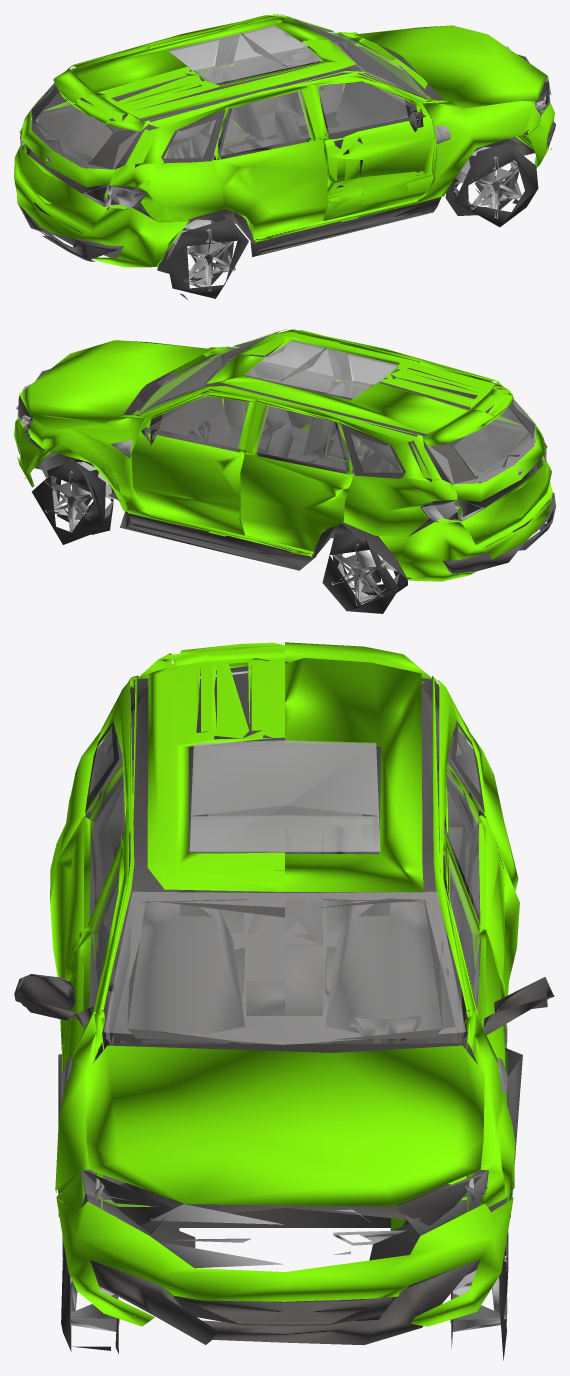
The model's file is everest.glb.
The picture shows the model from 3 angles, top to bottom: view 1: azimuth 30°, elevation 25°; view 2: azimuth 150°, elevation 25°; view 3: azimuth 270°, elevation 25°; orthographic projection. The views are drawn at different scales.
Parts seen in each view (by area): view 1: car_paint, car_detail, car_glass; view 2: car_paint, car_detail, car_glass; view 3: car_paint, car_detail, car_glass.
Boxes of the visible parts, <box> form: car_paint: <box>14,14,554,267</box>; car_detail: <box>15,16,555,299</box>; car_glass: <box>30,16,550,169</box>; car_paint: <box>14,329,552,581</box>; car_detail: <box>15,331,555,613</box>; car_glass: <box>17,331,535,484</box>; car_paint: <box>50,642,519,1326</box>; car_detail: <box>14,662,554,1360</box>; car_glass: <box>82,670,487,1235</box>.
Size of the model in its own units: 4.9 by 1.77 by 2.34.
